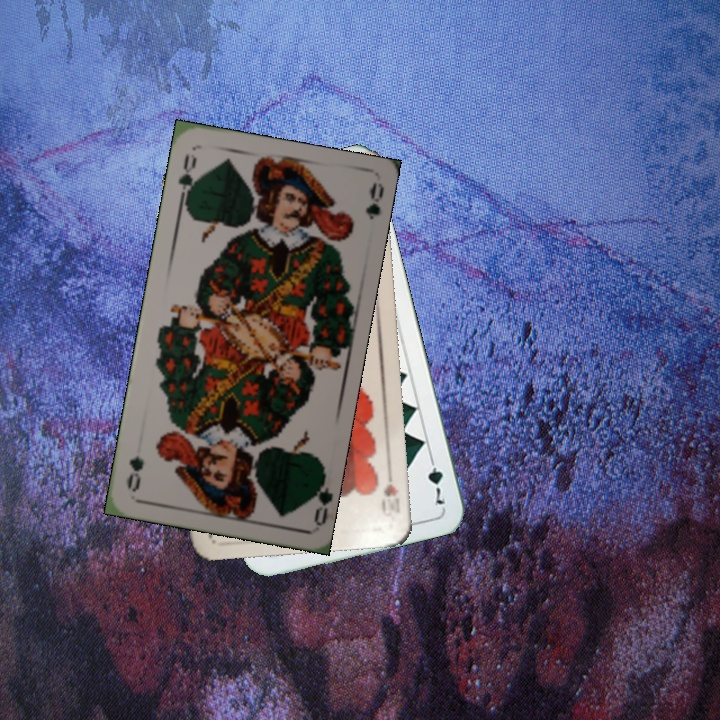G7: (423, 450, 448, 509)
GO: (302, 467, 332, 527), (174, 149, 200, 207)
H10: (377, 463, 402, 523)
